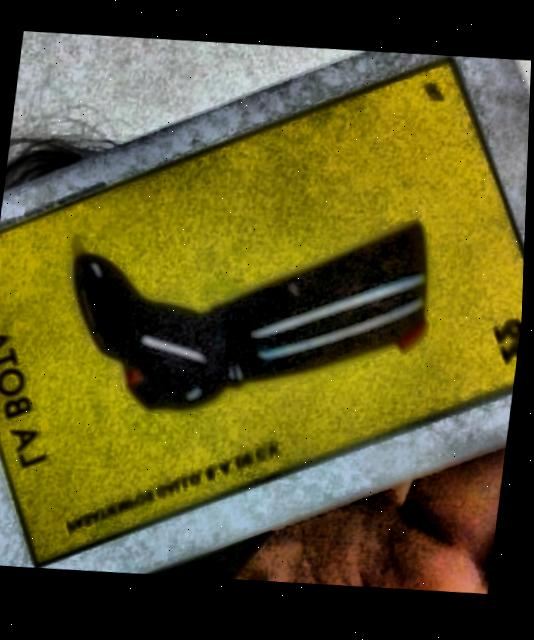La Bota: (0, 60, 526, 563)
